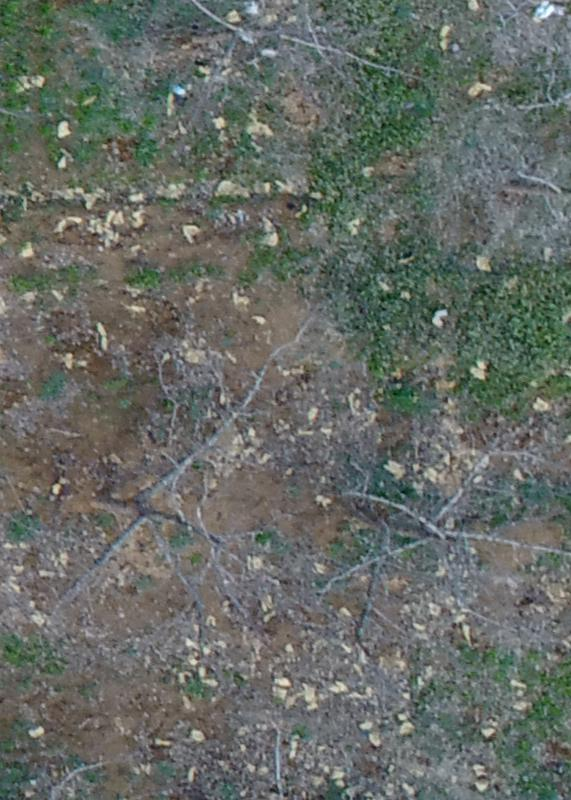apple: (18, 320, 309, 636), (291, 398, 561, 675), (129, 10, 434, 121)
